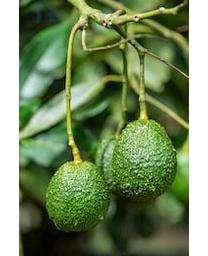avocado: (111, 118, 178, 202), (45, 159, 111, 234)
